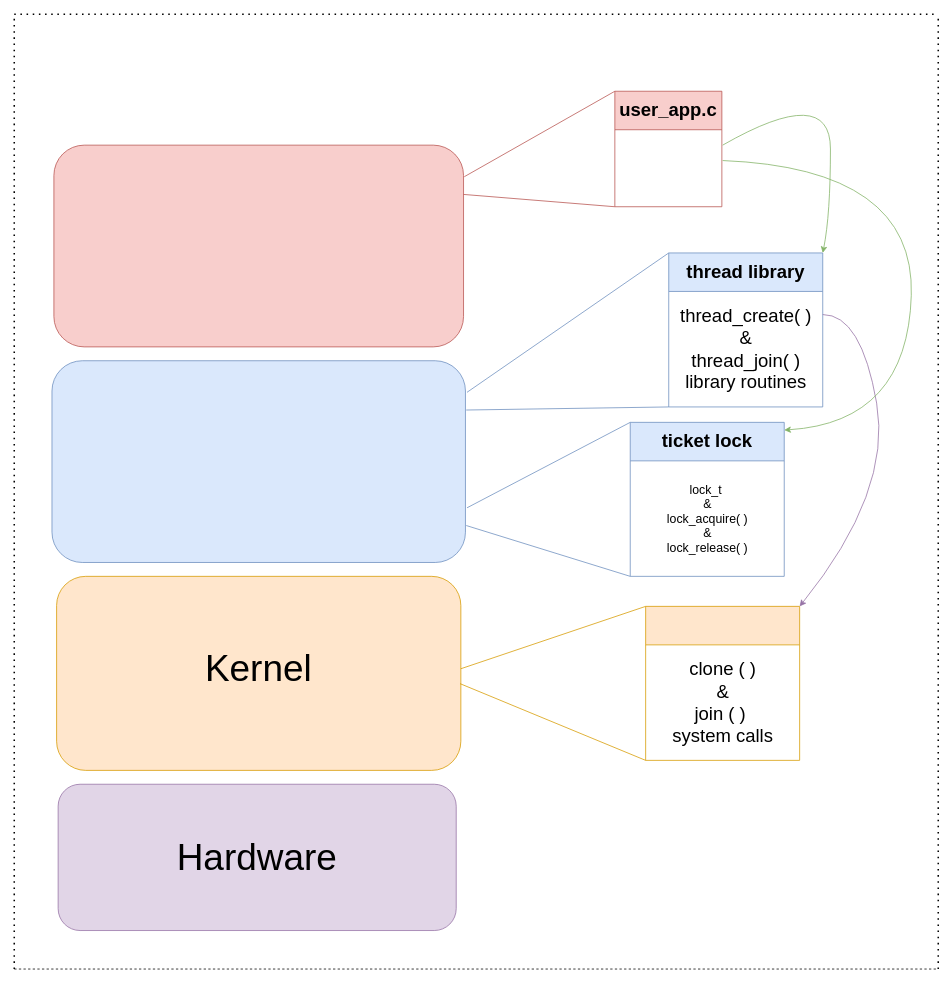
This 952x983 diagram has some shape labels left out. Each missing label, with the box of its shape:
libc: (51, 360, 465, 562)
syscall.c: (645, 606, 800, 760)
user space: (53, 144, 464, 347)
